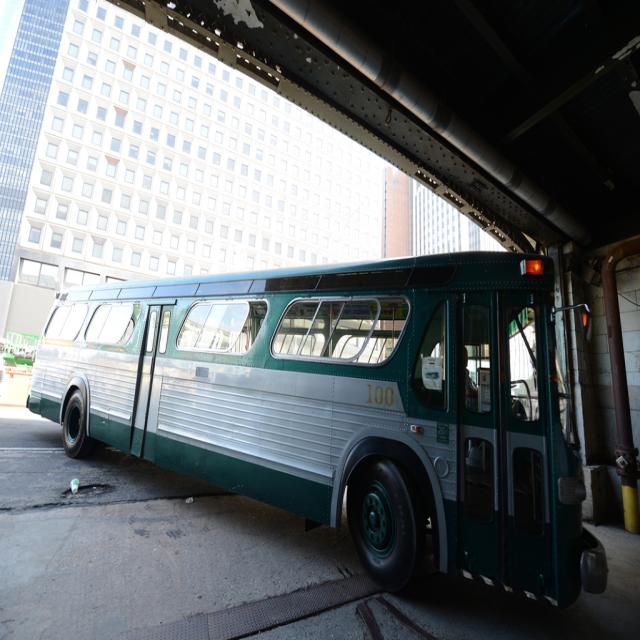Buses: (25, 222, 611, 622)
